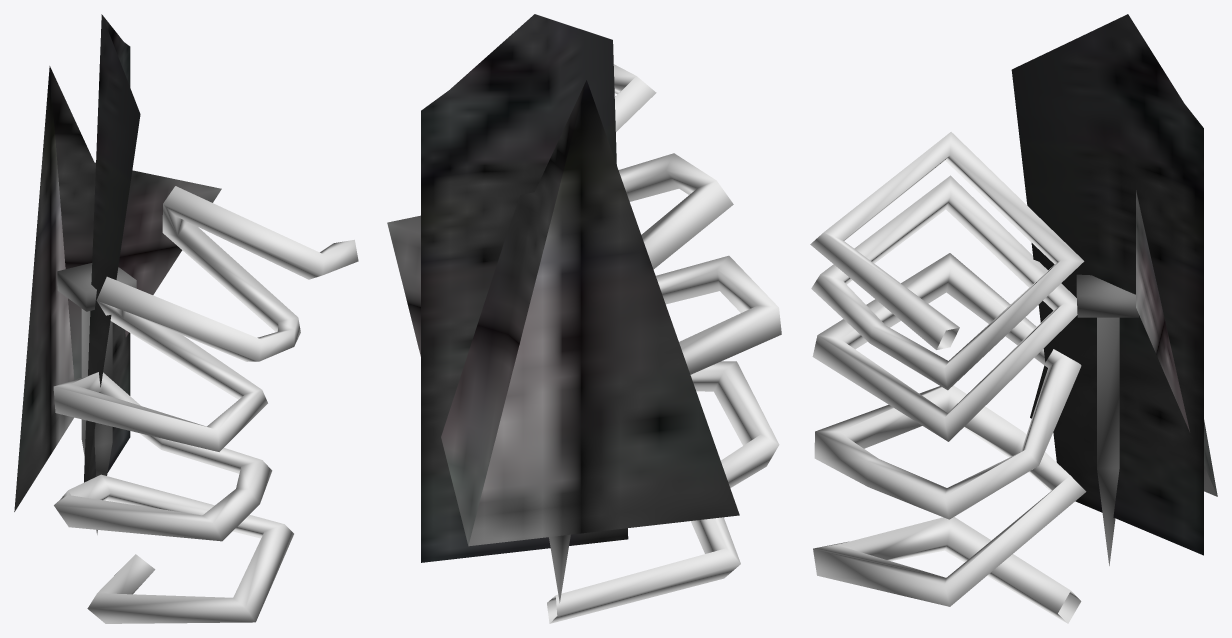
File: Gore.fbx
The picture shows the model from 3 angles, left to right: view 1: azimuth 30°, elevation 25°; view 2: azimuth 150°, elevation 25°; view 3: azimuth 270°, elevation 25°; orthographic projection. The views are drawn at different scales.
Visible parts, largest first — view 1: Ship_Gore3, Ship_Gore2, Ship_Gore1, Ship_Gore4, Ship_Gore5; view 2: Ship_Gore2, Ship_Gore1, Ship_Gore3, Ship_Gore4; view 3: Ship_Gore3, Ship_Gore1, Ship_Gore4, Ship_Gore2, Ship_Gore5.
Part boxes in pixels (box(x1,y1,x2,y2)): Ship_Gore3: box(53, 186, 358, 623); Ship_Gore2: box(14, 66, 221, 511); Ship_Gore1: box(84, 14, 140, 482); Ship_Gore4: box(81, 308, 112, 534); Ship_Gore5: box(57, 263, 136, 311); Ship_Gore2: box(387, 80, 739, 546); Ship_Gore1: box(421, 14, 628, 562); Ship_Gore3: box(547, 64, 781, 623); Ship_Gore4: box(549, 534, 570, 602); Ship_Gore3: box(810, 132, 1086, 623); Ship_Gore1: box(1011, 14, 1203, 555); Ship_Gore4: box(1097, 317, 1119, 565); Ship_Gore2: box(1030, 190, 1217, 496); Ship_Gore5: box(1076, 274, 1138, 317).
Bounding box in the file's own units: 82.43 × 143 × 88.01.
